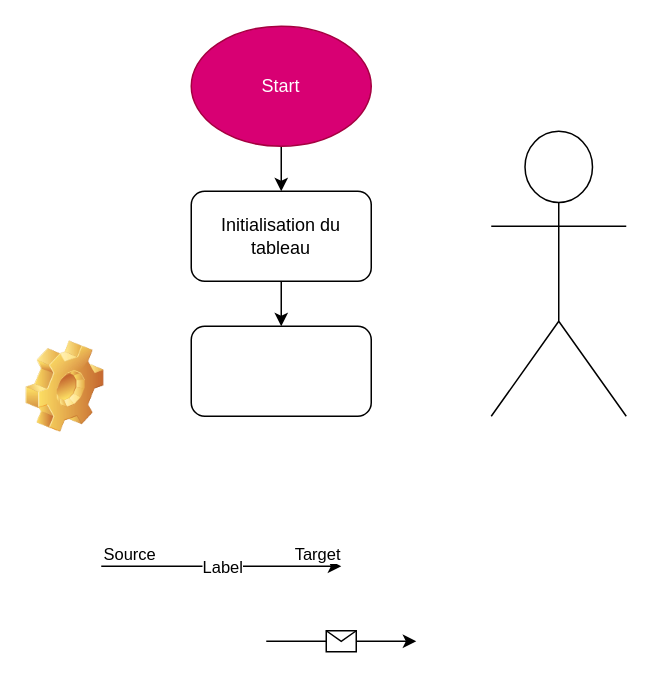
Some shapes in this 653 by 680 pixel diagram are drawn without their labels. Each missing label, with the box of its shape:
Actor: (490, 130, 626, 416)
Affichage des cases: (190, 325, 371, 416)
